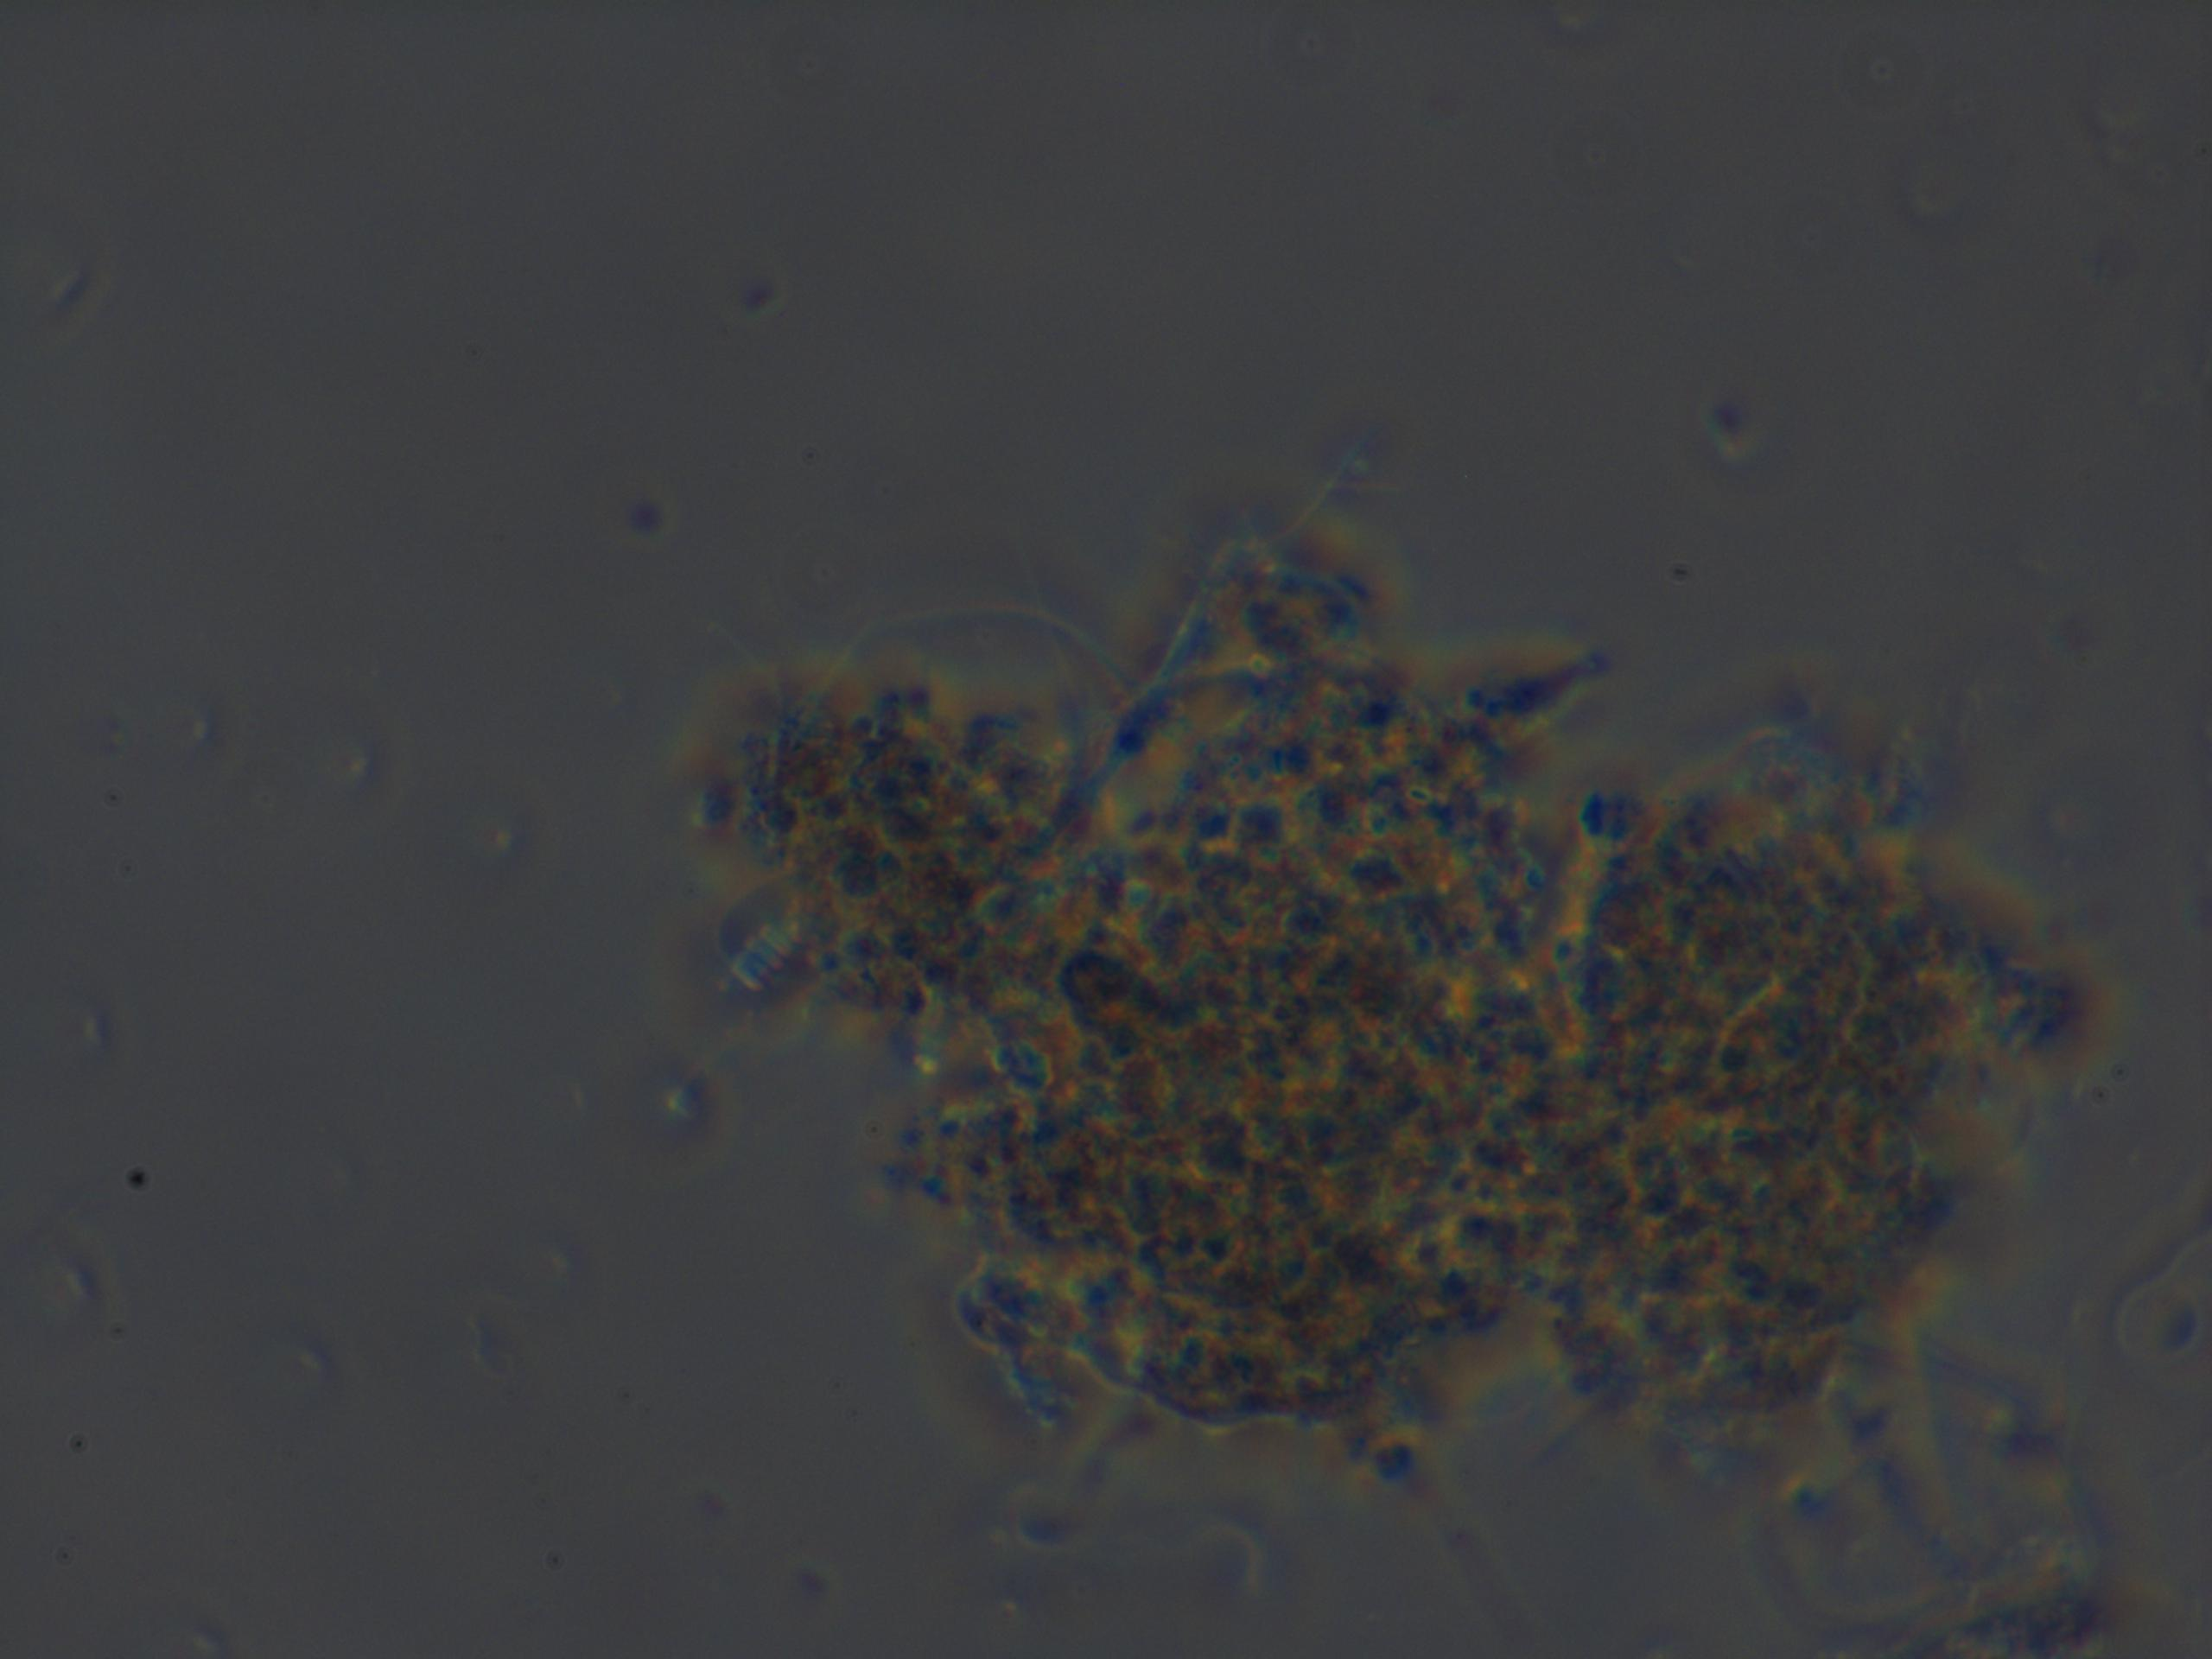spherical_floc: (690, 540, 2074, 1486)
